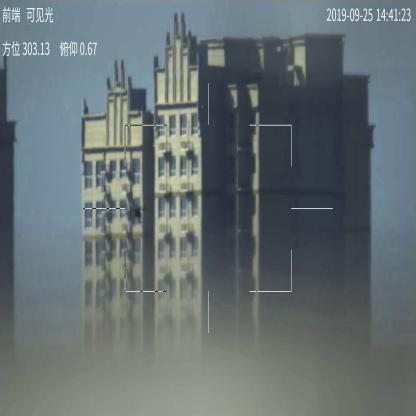uav: (134, 204, 148, 222)
